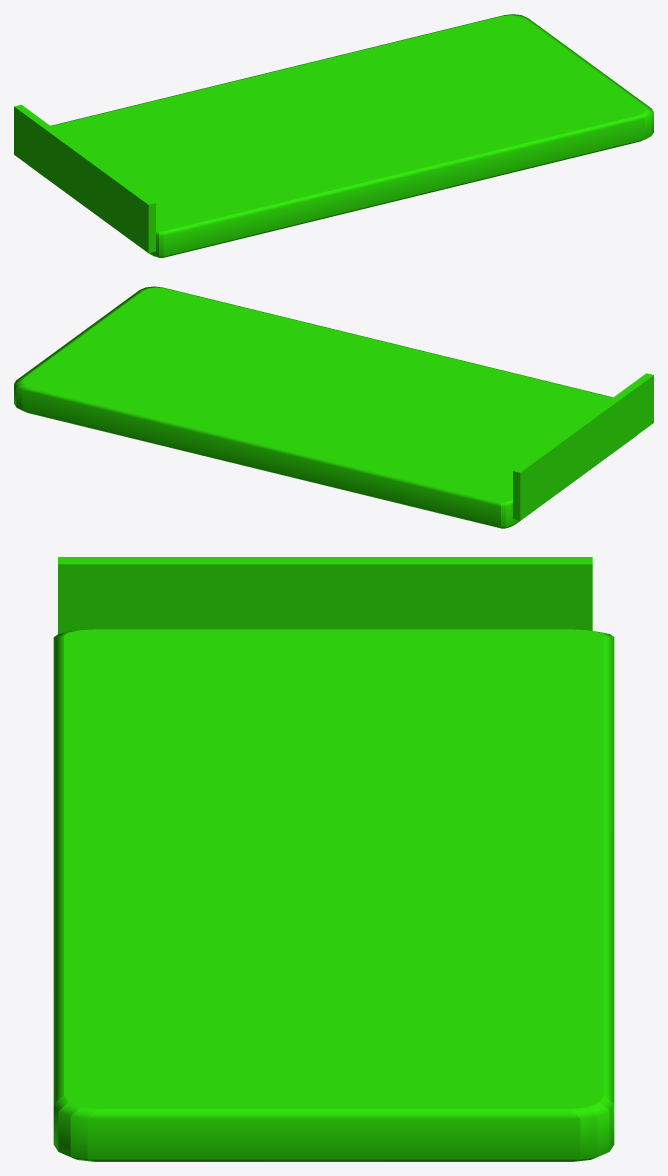
The model's file is Bedspring_02_Lod2.fbx.
3 renders of one model, top to bottom at view 1: azimuth 30°, elevation 25°; view 2: azimuth 150°, elevation 25°; view 3: azimuth 270°, elevation 25°, orthographic. The views are drawn at different scales.
Visible parts, largest first — view 1: Bedspring_02_Lod2; view 2: Bedspring_02_Lod2; view 3: Bedspring_02_Lod2.
Part boxes in pixels (x1,y1,x2,y2): Bedspring_02_Lod2: [14, 14, 653, 257]; Bedspring_02_Lod2: [14, 286, 653, 528]; Bedspring_02_Lod2: [53, 557, 614, 1161].
Size of the model in its own units: 206 by 22.03 by 98.72.
